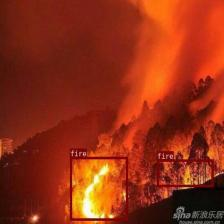fire: (70, 156, 127, 220), (157, 159, 213, 187)
